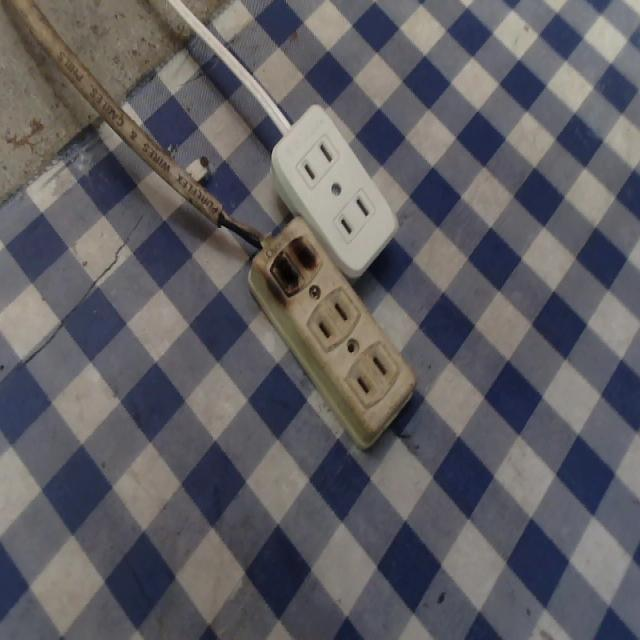-: (254, 229, 329, 296)
